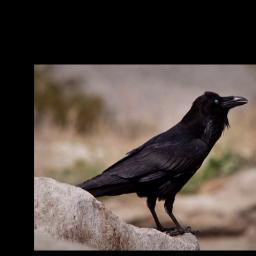Crow: (74, 87, 250, 234)
